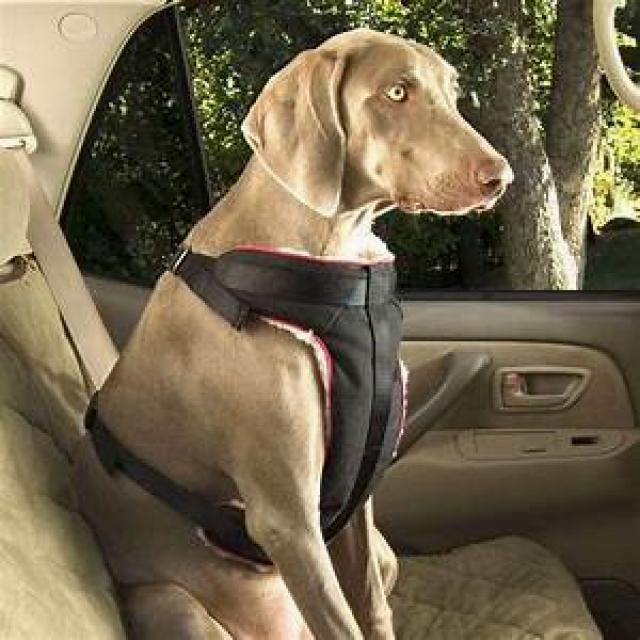KOPEK: (79, 12, 522, 640)
